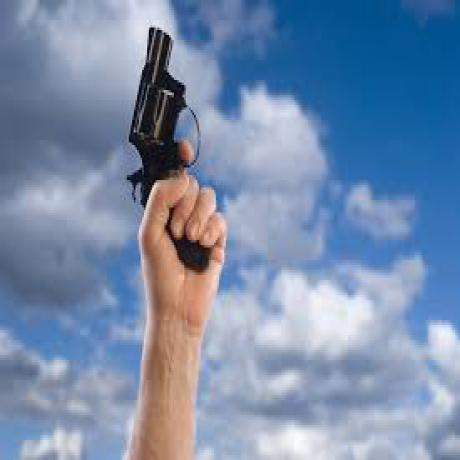Guns: (135, 30, 216, 277)
